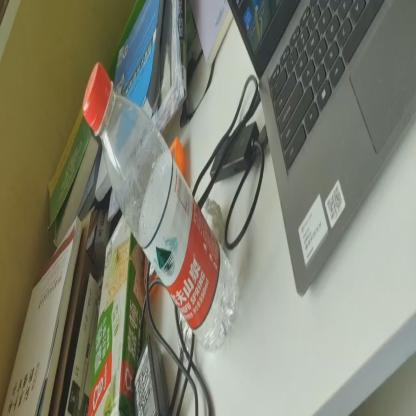Glass Bottle: (82, 60, 238, 358)
